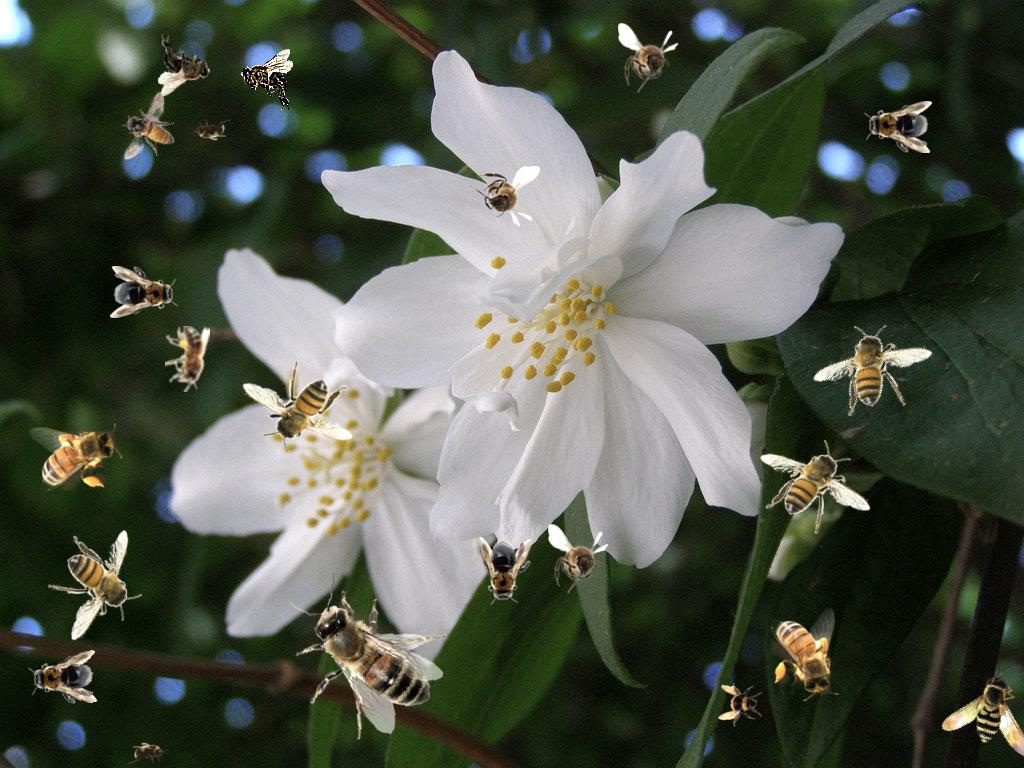Bee: (276, 568, 451, 746), (802, 297, 949, 441), (760, 440, 871, 534), (242, 360, 353, 454), (48, 530, 142, 641), (934, 668, 1024, 768), (104, 89, 192, 174), (771, 608, 839, 701), (29, 423, 122, 491), (26, 650, 100, 708), (548, 524, 609, 594), (618, 23, 679, 93), (470, 166, 540, 227), (110, 266, 178, 318), (864, 101, 932, 153), (479, 537, 531, 605), (158, 34, 211, 96), (240, 49, 293, 111), (165, 326, 210, 392), (718, 683, 762, 727), (190, 119, 230, 141), (129, 742, 169, 764)
